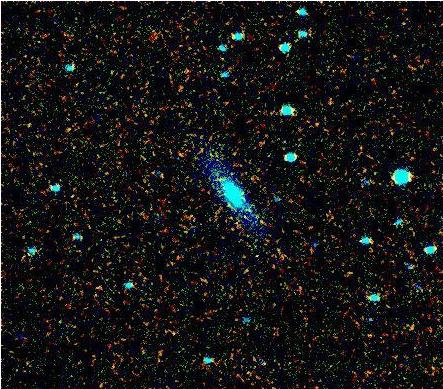star: (213, 191, 243, 221)
